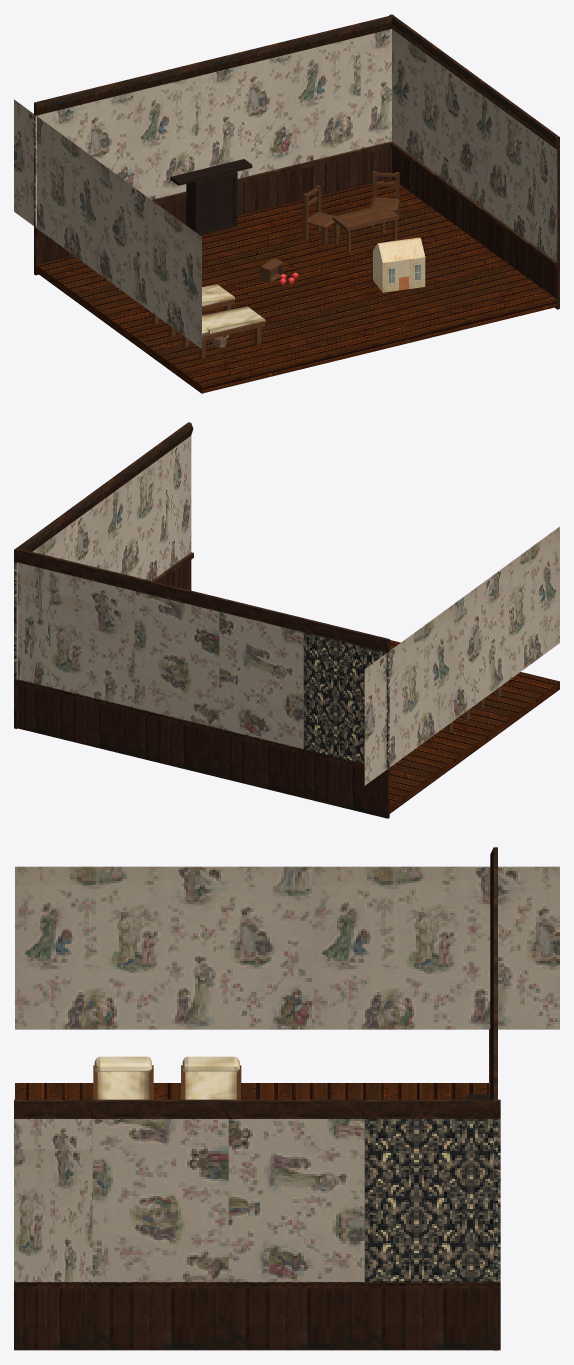
File: SM_Kids_Room.glb
3 views of the same model, one above another, from view 1: azimuth 30°, elevation 25°; view 2: azimuth 150°, elevation 25°; view 3: azimuth 270°, elevation 25° (orthographic). The views are drawn at different scales.
Parts seen in each view (by area): view 1: SM_House_Blockout.018, SM_House_Blockout.112, SM_House_Blockout.049, SM_House_Blockout.019, SM_House_Blockout.079, SM_House_Blockout.080, SM_Kids_Table, SM_House_Blockout.178, SM_House_Blockout.083, SM_House_Blockout.020, SM_Wood_Frame, SM_House_Blockout.017 (+1 smaller); view 2: SM_House_Blockout.018, SM_House_Blockout.049, SM_House_Blockout.112, SM_House_Blockout.019; view 3: SM_House_Blockout.018, SM_House_Blockout.019, SM_House_Blockout.112, SM_House_Blockout.049, SM_House_Blockout.178, SM_House_Blockout.017.
Boxes of the visible parts, x1,y1,x2,y2 form: SM_House_Blockout.018: (14,29,557,348); SM_House_Blockout.112: (36,178,556,393); SM_House_Blockout.049: (34,15,393,275); SM_House_Blockout.019: (389,14,559,309); SM_House_Blockout.079: (170,159,252,235); SM_House_Blockout.080: (373,237,425,292); SM_Kids_Table: (332,204,398,253); SM_House_Blockout.178: (202,306,265,335); SM_House_Blockout.083: (303,185,339,244); SM_House_Blockout.020: (370,171,399,227); SM_Wood_Frame: (183,306,265,358); SM_House_Blockout.017: (202,284,234,306); SM_House_Blockout.018: (16,436,559,785); SM_House_Blockout.049: (15,548,391,818); SM_House_Blockout.112: (389,640,559,813); SM_House_Blockout.019: (14,422,193,728); SM_House_Blockout.018: (14,866,559,1281); SM_House_Blockout.019: (14,1099,500,1350); SM_House_Blockout.112: (15,1083,488,1099); SM_House_Blockout.049: (489,847,497,1350); SM_House_Blockout.178: (94,1056,152,1099); SM_House_Blockout.017: (182,1056,239,1099).
Size of the model in its own units: 13.26 by 6.06 by 12.04.
Materials: 9 (9 with a texture image).
